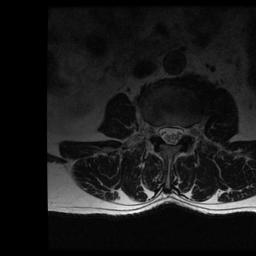CCS_normal: (166, 118, 175, 149)
LFS_normal: (184, 122, 192, 143)
LLS_normal: (174, 121, 184, 144)
RFS_normal: (150, 119, 158, 143)
RLS_normal: (158, 119, 166, 143)
